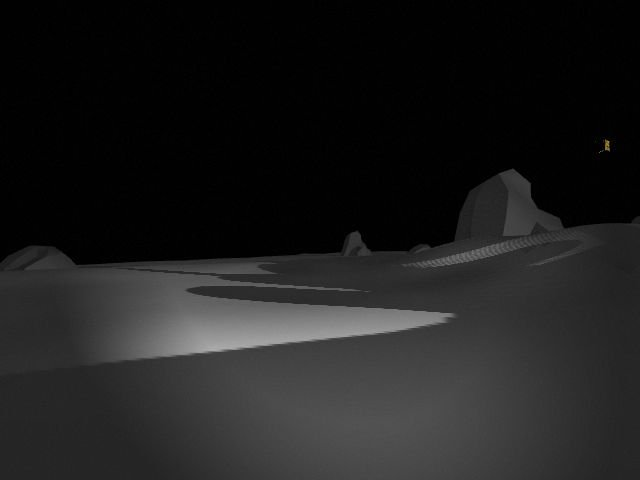cubesat: (593, 137, 612, 157)
